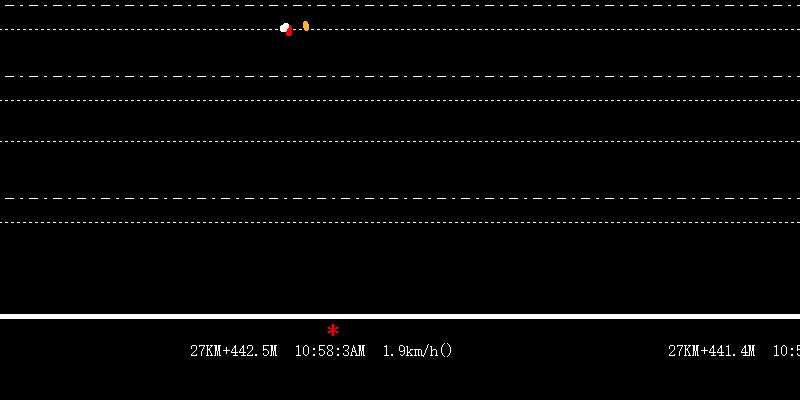face_1: (301, 17, 310, 33)
face_s: (279, 19, 291, 38)
star: (324, 322, 339, 338)
